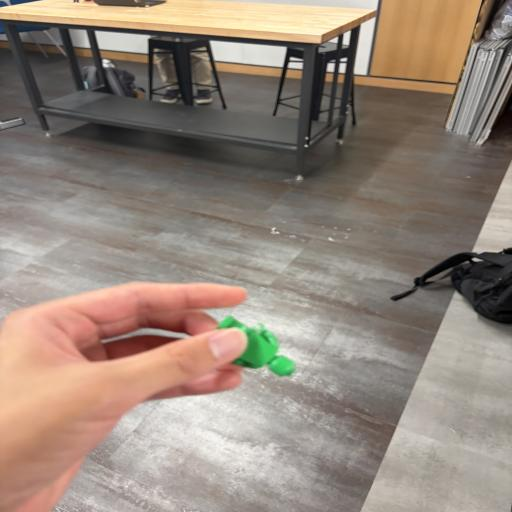Green-Lego: (216, 316, 296, 376)
